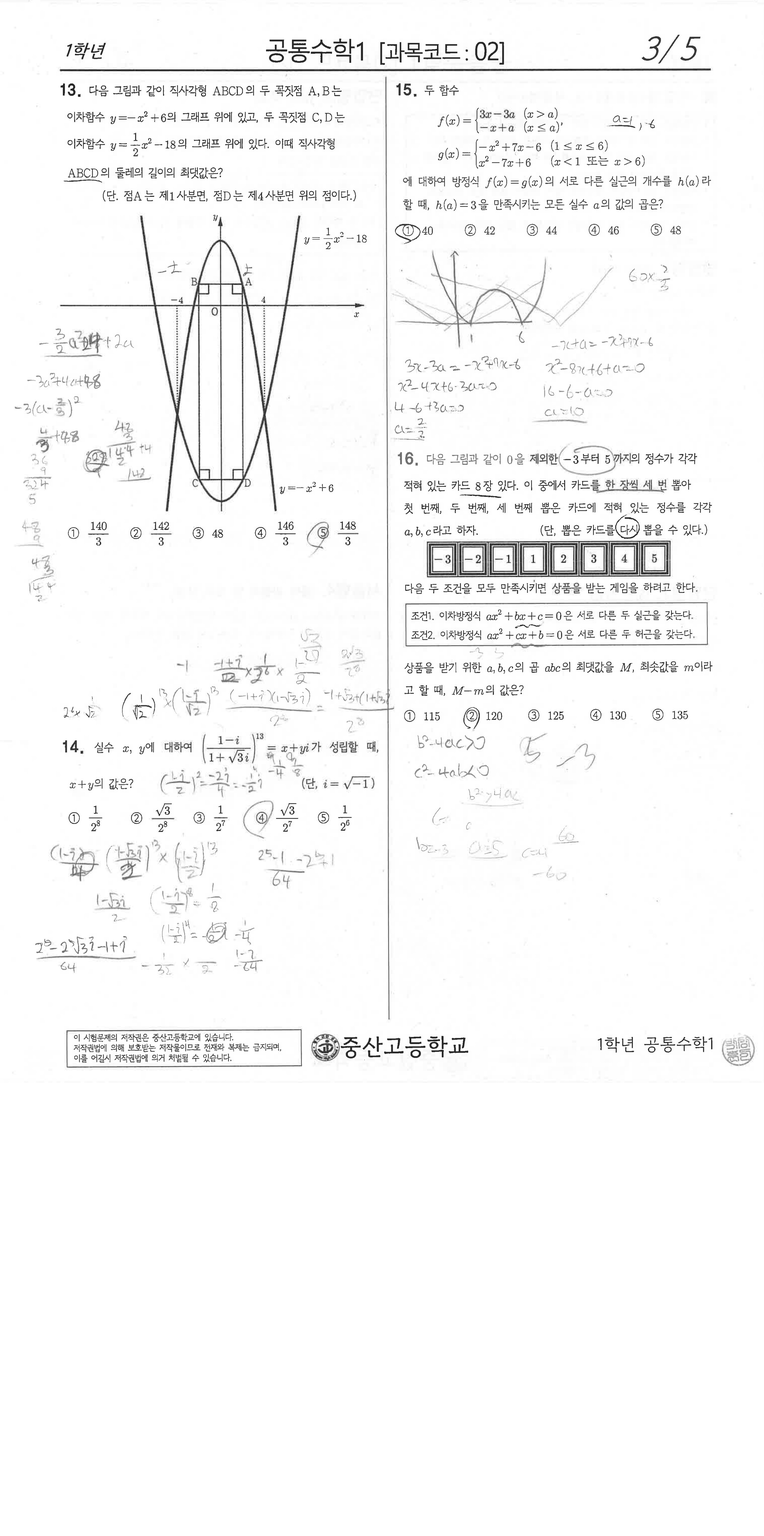problem: (53, 78, 379, 563), (391, 441, 723, 731), (390, 73, 716, 251), (58, 729, 383, 848)
